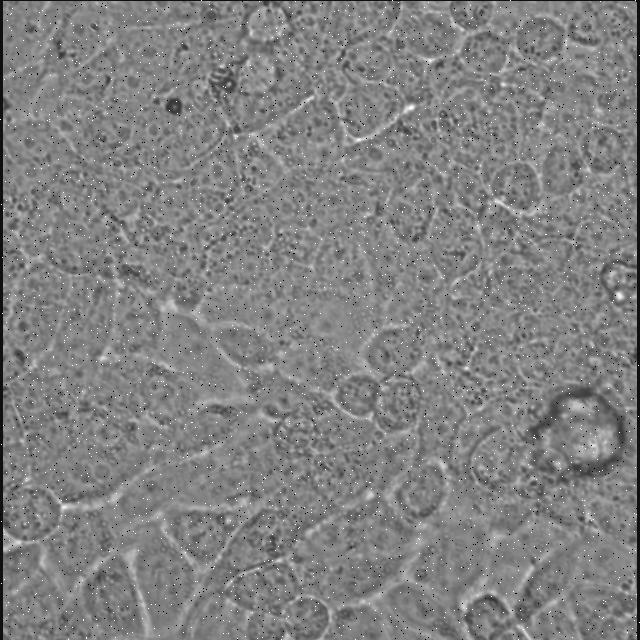microbeads: (162, 92, 184, 116)
